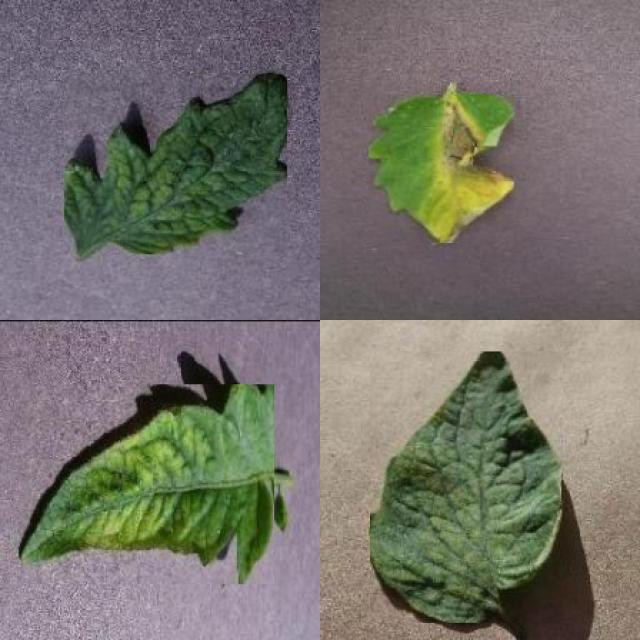Late Blight: (369, 95, 514, 244)
Mosaic Virus: (19, 385, 274, 585), (64, 75, 287, 255)
Spider Mites: (370, 352, 563, 622)
